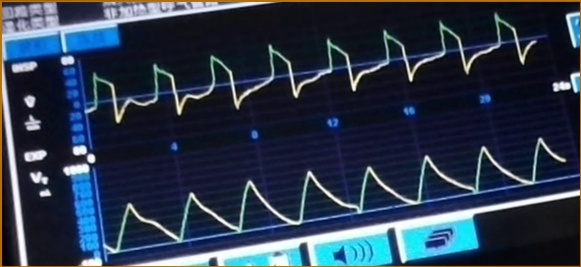Premature_cycling Flow: (92, 16, 540, 122)
Premature_cycling Volume: (106, 136, 566, 252)
